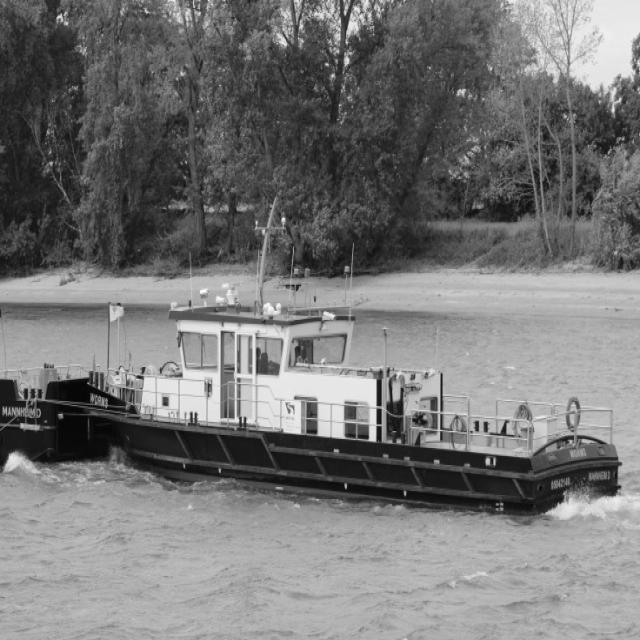tugboat: (57, 195, 627, 532)
